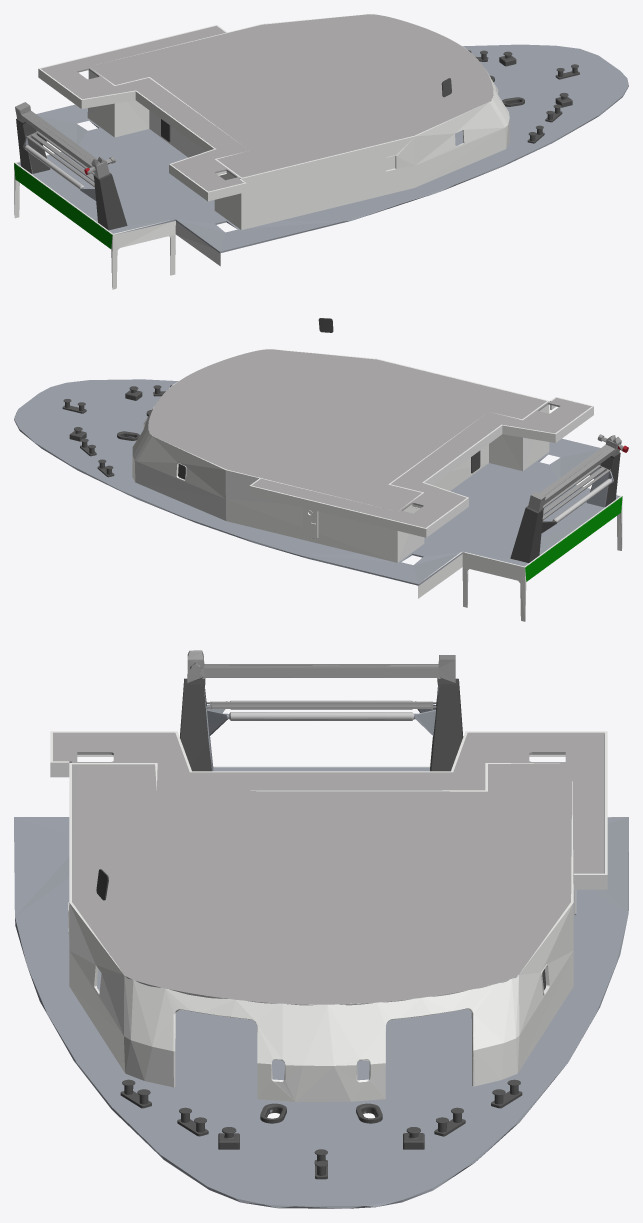
The model's file is b_deck_updated.dae.
3 renders of one model, top to bottom at view 1: azimuth 30°, elevation 25°; view 2: azimuth 150°, elevation 25°; view 3: azimuth 270°, elevation 25°, orthographic. The views are drawn at different scales.
Visible parts, largest first — view 1: node80.001, node81.001, node76.001, node69.001, node90.001, node83.001, node77.001; view 2: node80.001, node81.001, node76.001, node90.001, node69.001, node83.001, node235; view 3: node80.001, node81.001, node76.001, node83.001, node90.001, node79.001, node86.001.
Boxes of the visible parts, x1=… form: node80.001: x1=41, y1=14, x2=493, y2=191; node81.001: x1=16, y1=44, x2=628, y2=253; node76.001: x1=87, y1=14, x2=509, y2=229; node69.001: x1=14, y1=151, x2=220, y2=289; node90.001: x1=38, y1=25, x2=246, y2=201; node83.001: x1=15, y1=102, x2=115, y2=178; node77.001: x1=24, y1=145, x2=84, y2=189; node80.001: x1=148, y1=349, x2=591, y2=527; node81.001: x1=14, y1=379, x2=621, y2=585; node76.001: x1=132, y1=349, x2=549, y2=562; node90.001: x1=249, y1=397, x2=593, y2=537; node69.001: x1=418, y1=485, x2=622, y2=621; node83.001: x1=528, y1=434, x2=628, y2=511; node235: x1=303, y1=508, x2=318, y2=539; node80.001: x1=53, y1=732, x2=604, y2=1005; node81.001: x1=14, y1=678, x2=628, y2=1208; node76.001: x1=68, y1=763, x2=573, y2=1101; node83.001: x1=187, y1=650, x2=455, y2=682; node90.001: x1=50, y1=731, x2=607, y2=889; node79.001: x1=229, y1=712, x2=413, y2=720; node86.001: x1=211, y1=705, x2=431, y2=708.
Size of the model in its own units: 0.5962 by 0.342 by 0.1465.
